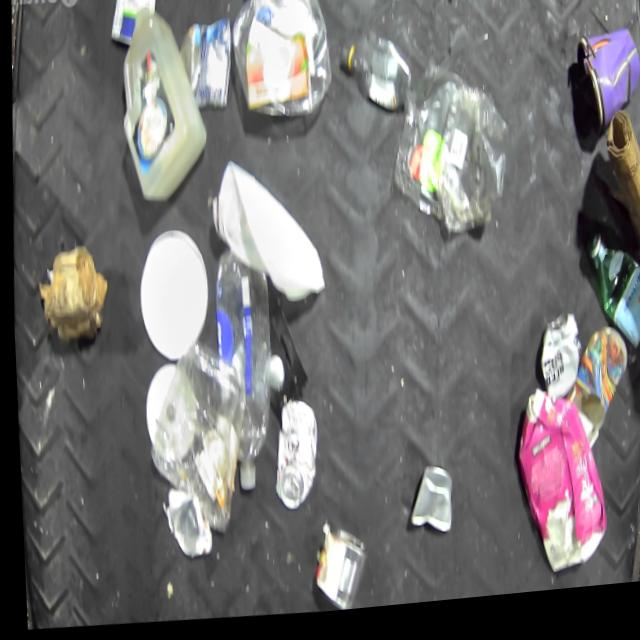can: (174, 17, 234, 119), (266, 401, 317, 519), (302, 525, 364, 619), (530, 317, 581, 412), (400, 467, 450, 548)
milk_jug: (203, 156, 328, 319)
non_white_jug: (504, 390, 607, 592), (112, 8, 212, 214)
plastic_bottle: (200, 243, 278, 504), (577, 231, 640, 380), (331, 30, 413, 127)
